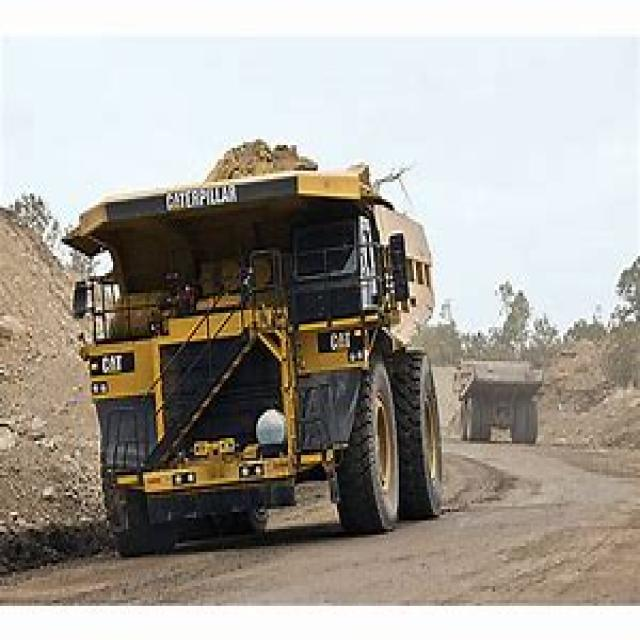dump_truck: (47, 125, 446, 529), (454, 347, 550, 444)
